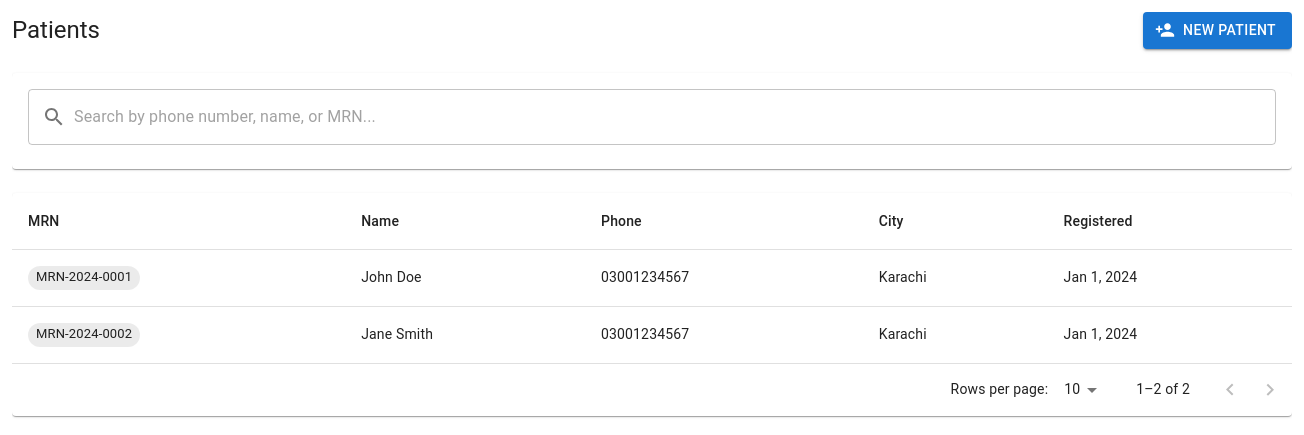
it: Patients Component › Search Functionality › should clear search when clicking clear button
Type "0300" into the field with placeholder "Search by phone number, name, or MRN..." at (675, 116), box [74,88,1276,144]
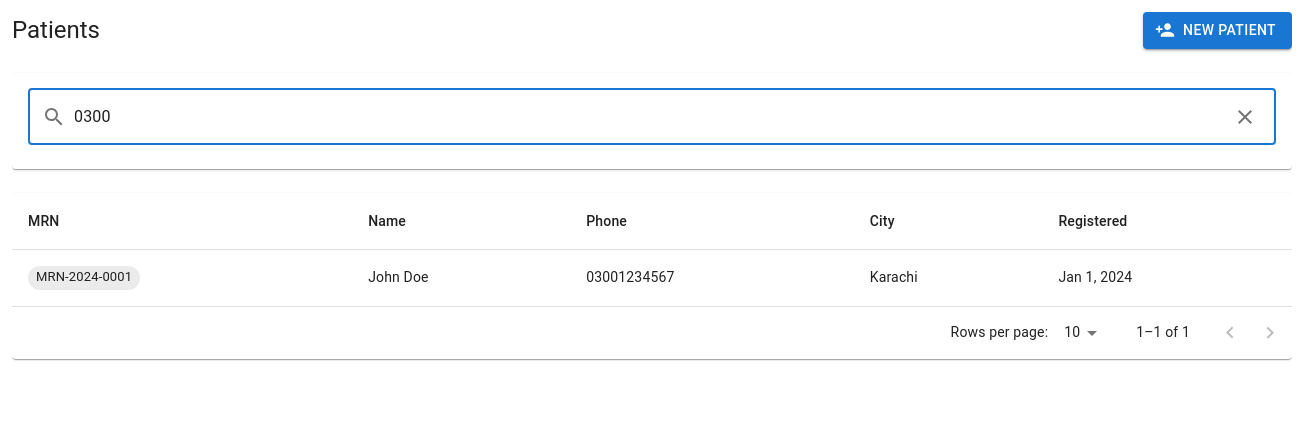
Click the button named "clear search" at (1245, 116), box [1228,100,1262,134]
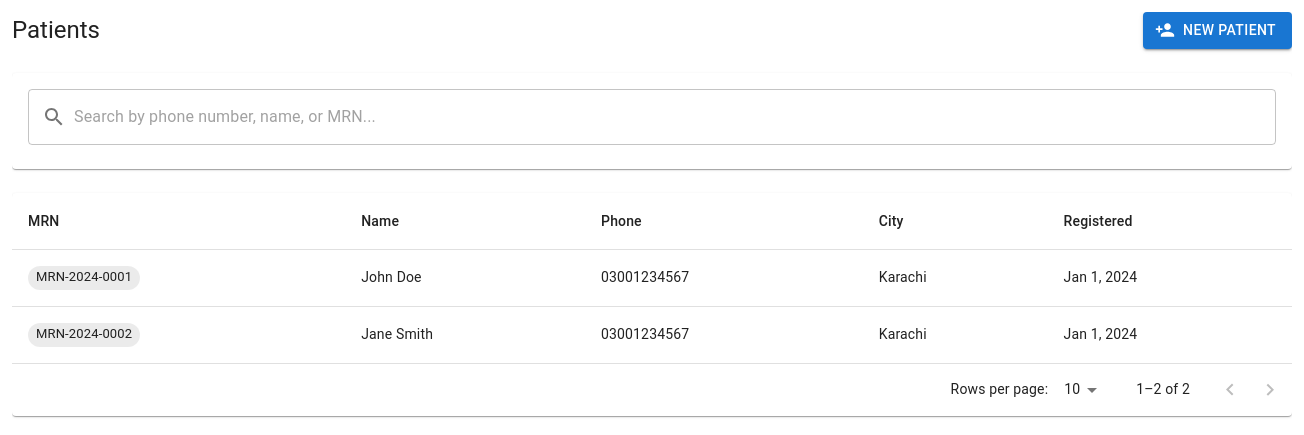
Result: the field with placeholder "Search by phone number, name, or MRN..." is empty at [74,88,1276,144]
